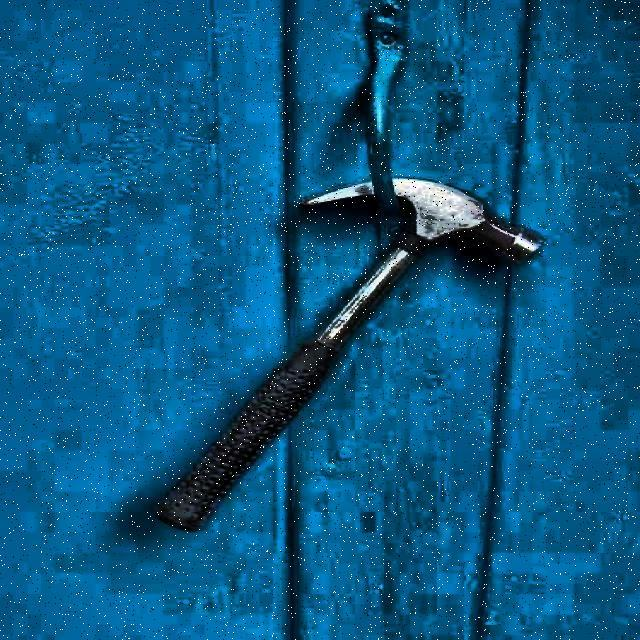hammer: (99, 175, 543, 539)
